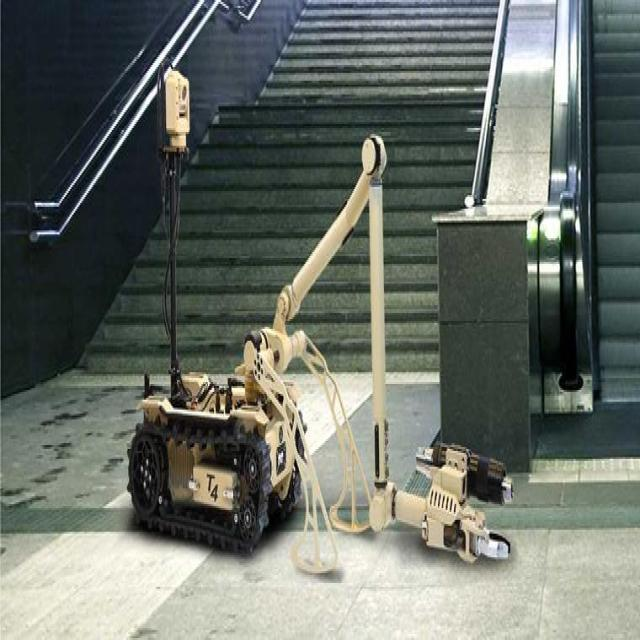Tanks: (109, 39, 538, 618)
